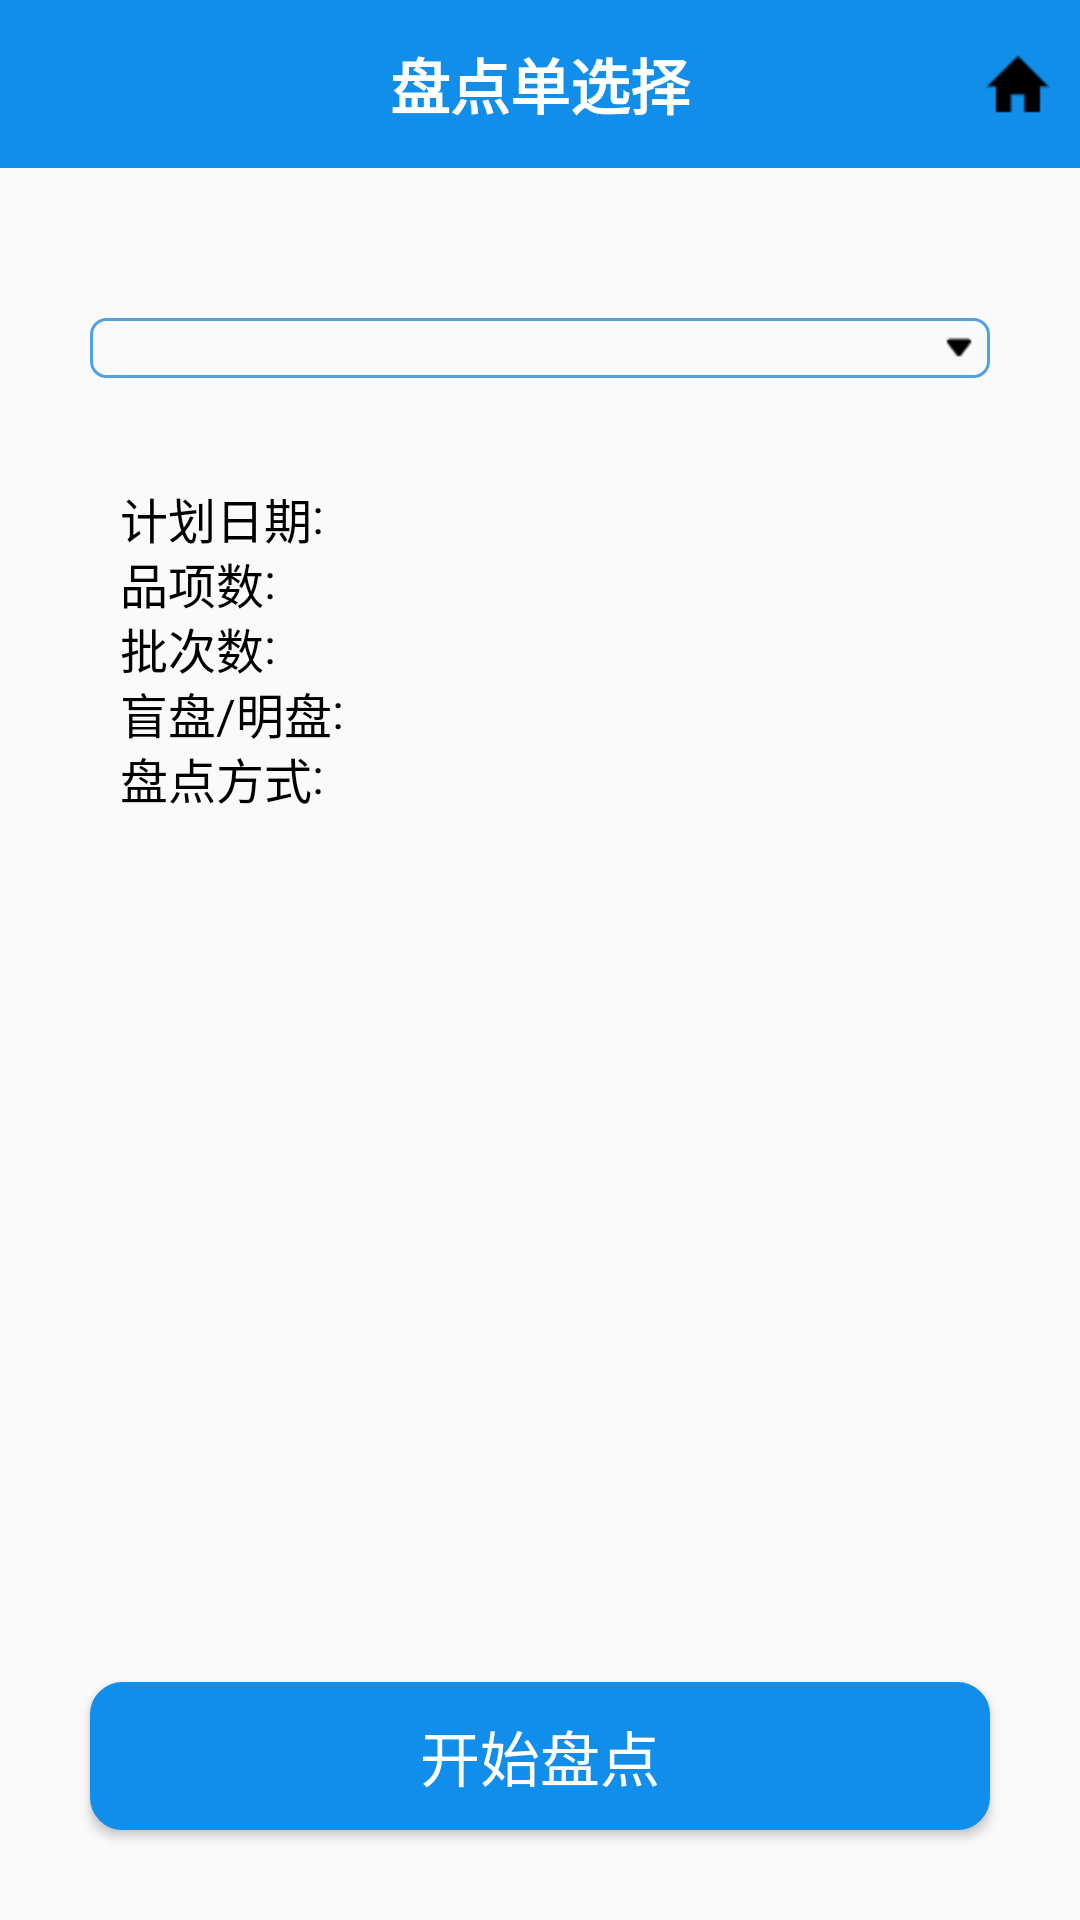

Named icons in this screenshot (1080×1920) and their bounding boxes, [x1,y1,x2,y2]:
home: [986,55,1050,113]
